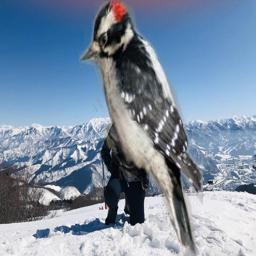Woodpecker: (78, 1, 203, 256)
